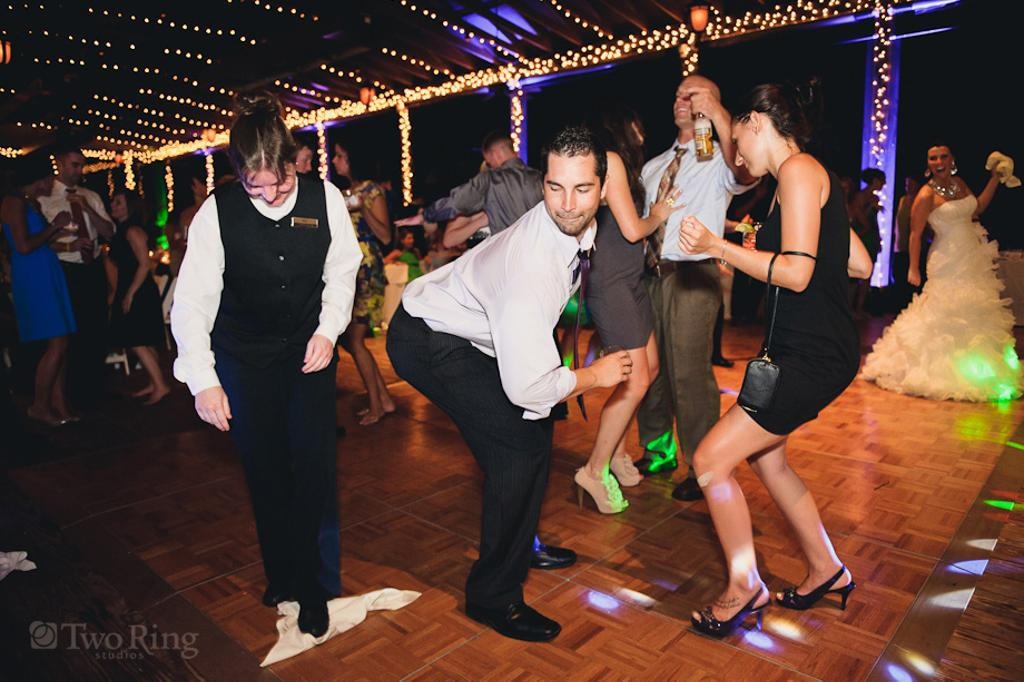face: (545, 161, 600, 233), (732, 117, 766, 177), (242, 171, 294, 207), (674, 80, 704, 125), (926, 145, 950, 178), (61, 154, 84, 184), (333, 144, 353, 175), (293, 150, 313, 178), (36, 163, 53, 193), (111, 193, 128, 215), (904, 177, 916, 195), (876, 175, 886, 191), (403, 233, 413, 247)
